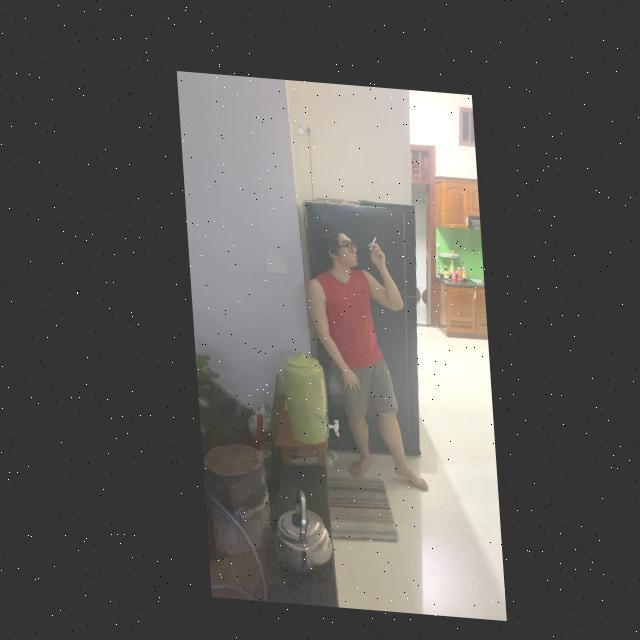cigarette: (365, 230, 374, 244)
